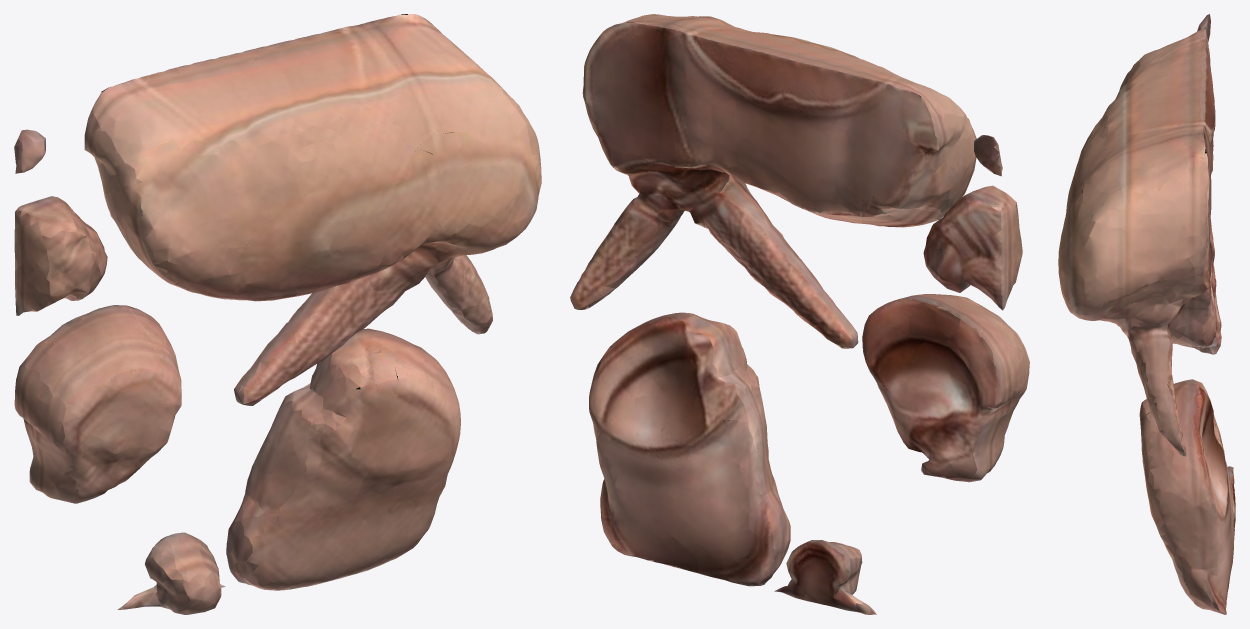
Rendered from 15_30_39_20_a-single-antique-copper-ice-cream-mold.glb.
The picture shows the model from 3 angles, left to right: view 1: azimuth 30°, elevation 25°; view 2: azimuth 150°, elevation 25°; view 3: azimuth 270°, elevation 25°; orthographic projection. The views are drawn at different scales.
Visible parts, largest first — view 1: world; view 2: world; view 3: world.
Boxes of the visible parts, x1,y1,x2,y2 form: world: (14,14,541,614); world: (570,14,1029,614); world: (1058,14,1235,614).
Size of the model in its own units: 0.7875 by 0.8866 by 0.3054.
Materials: 1 (1 with a texture image).
